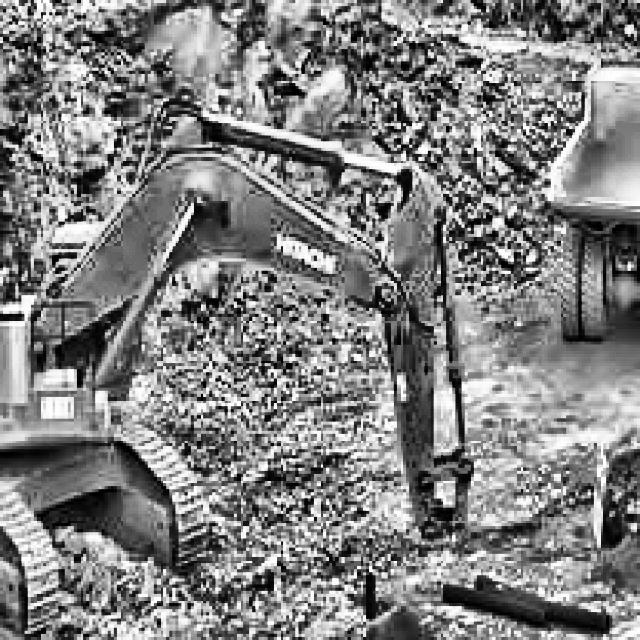dump_truck: (547, 55, 640, 347)
excavator: (0, 95, 474, 640)
